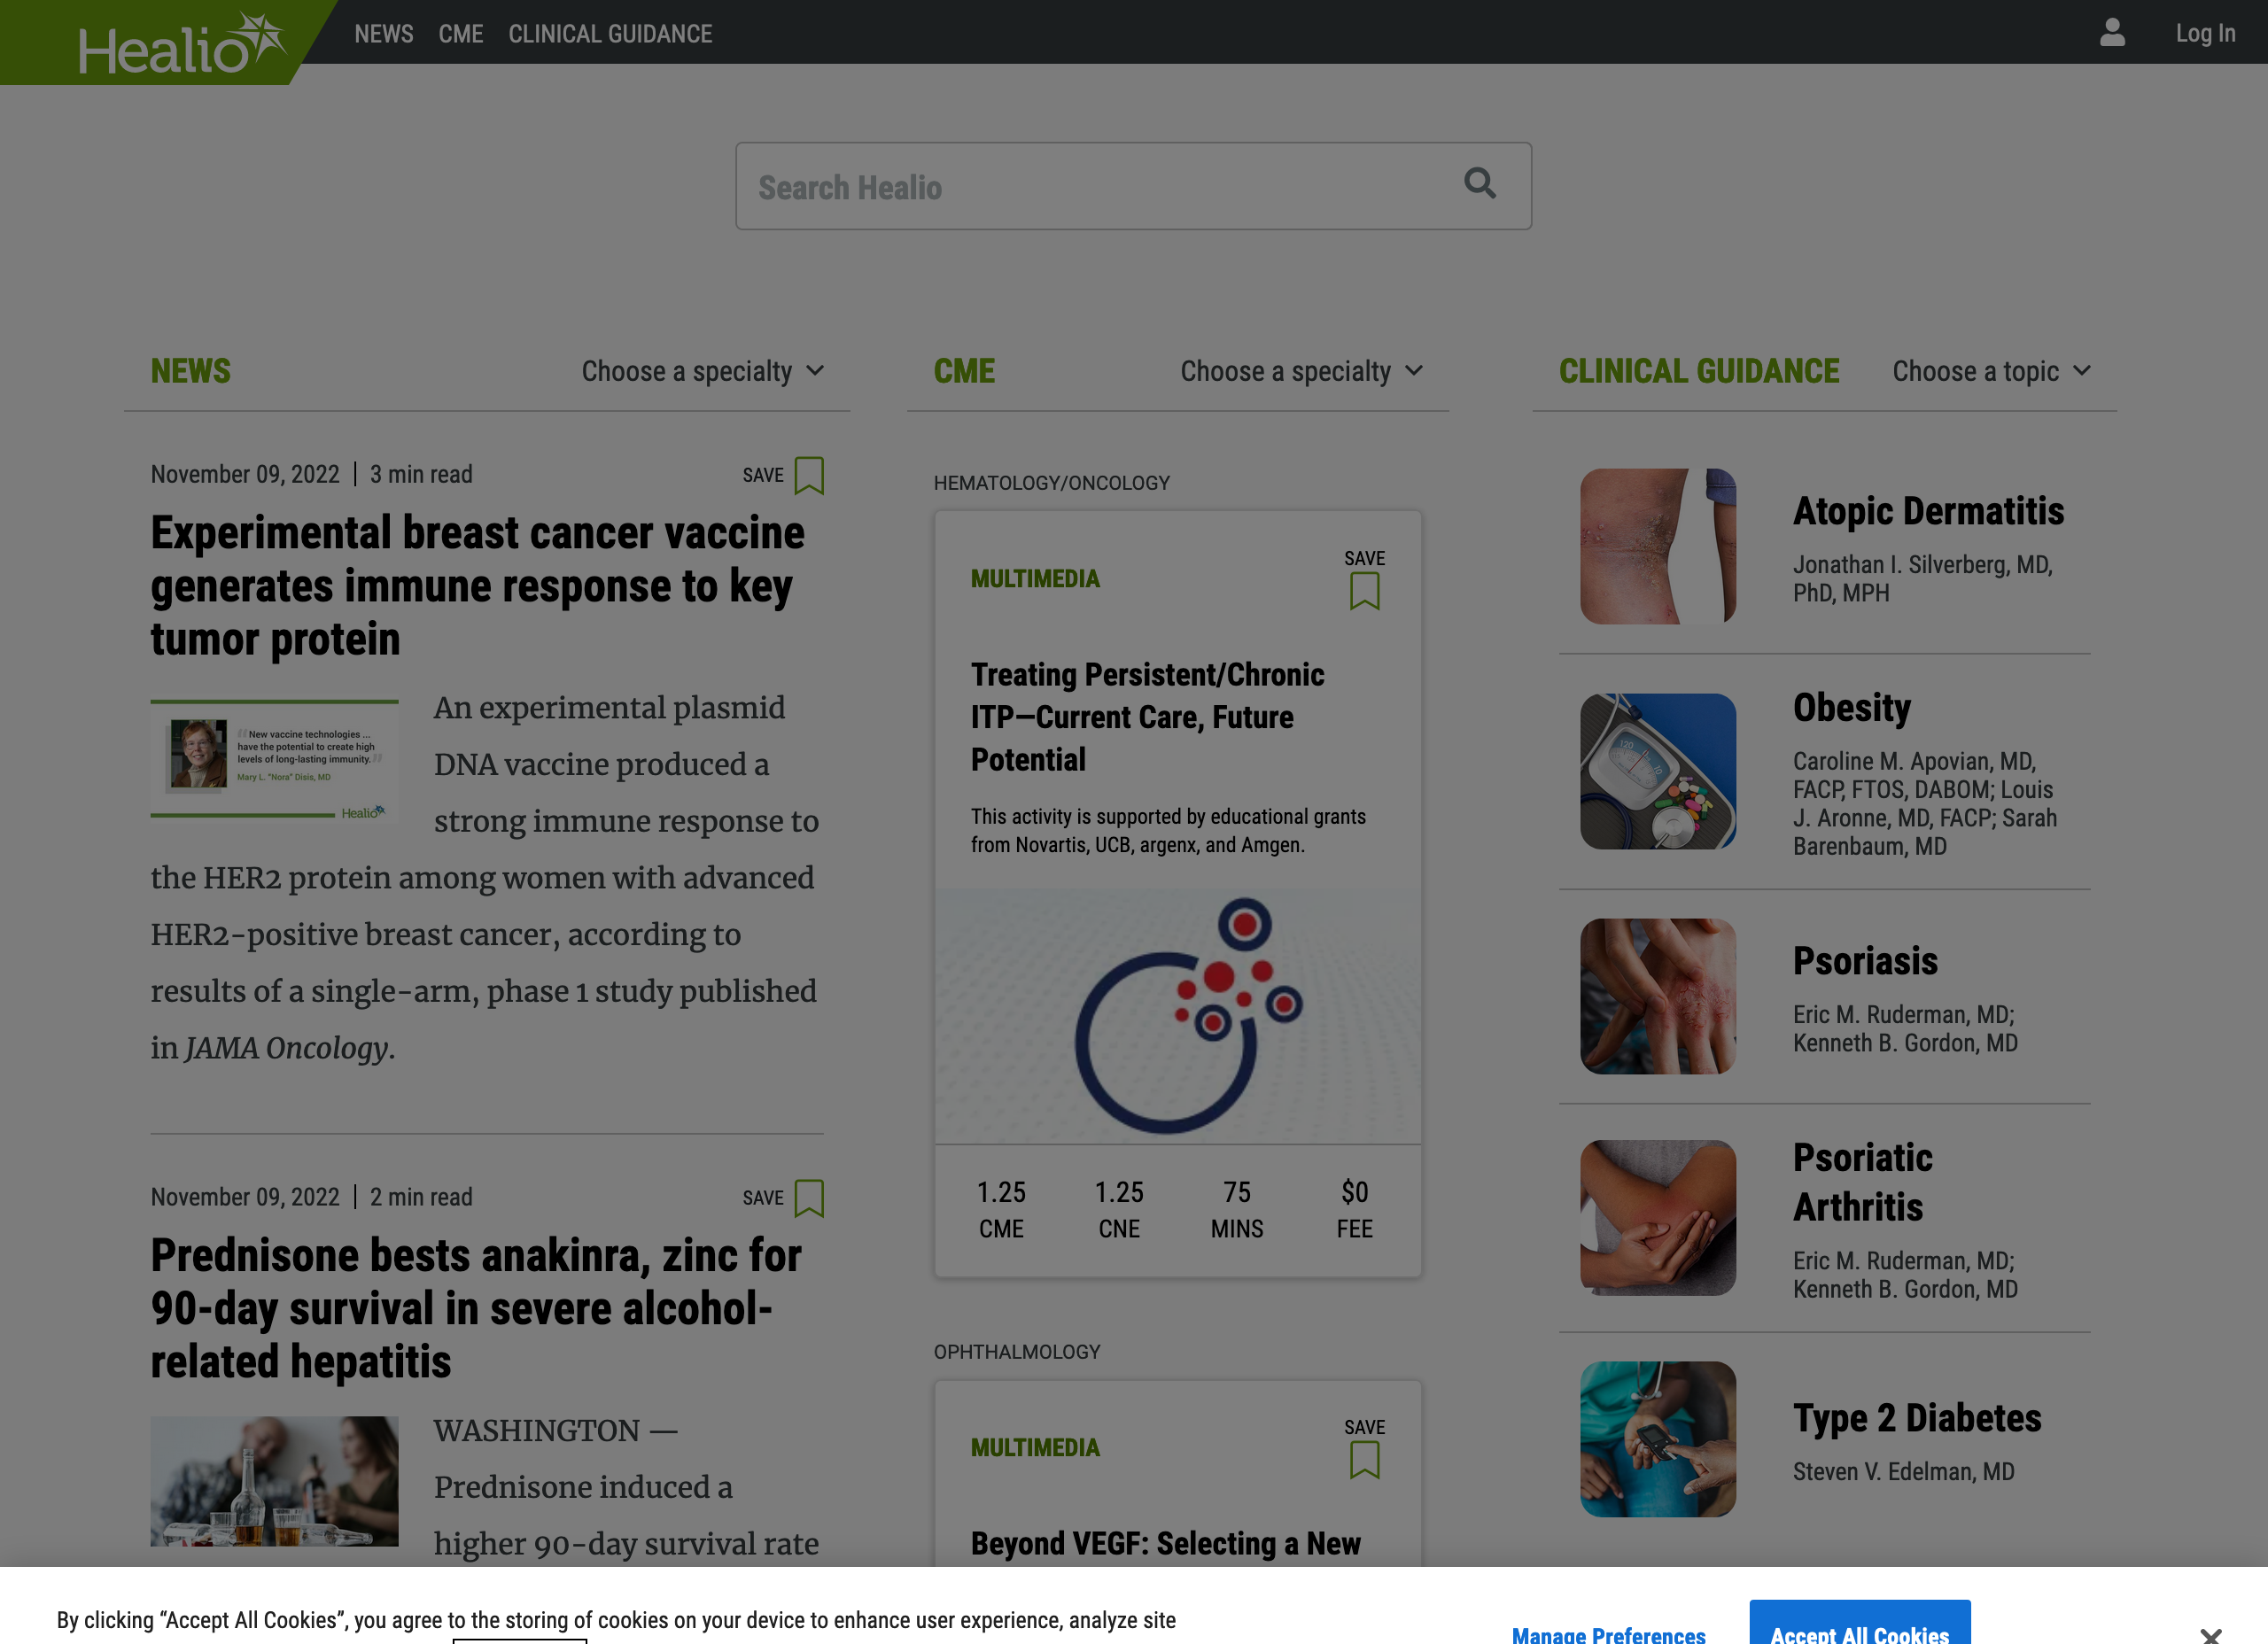Login: (2162, 12, 2249, 53)
